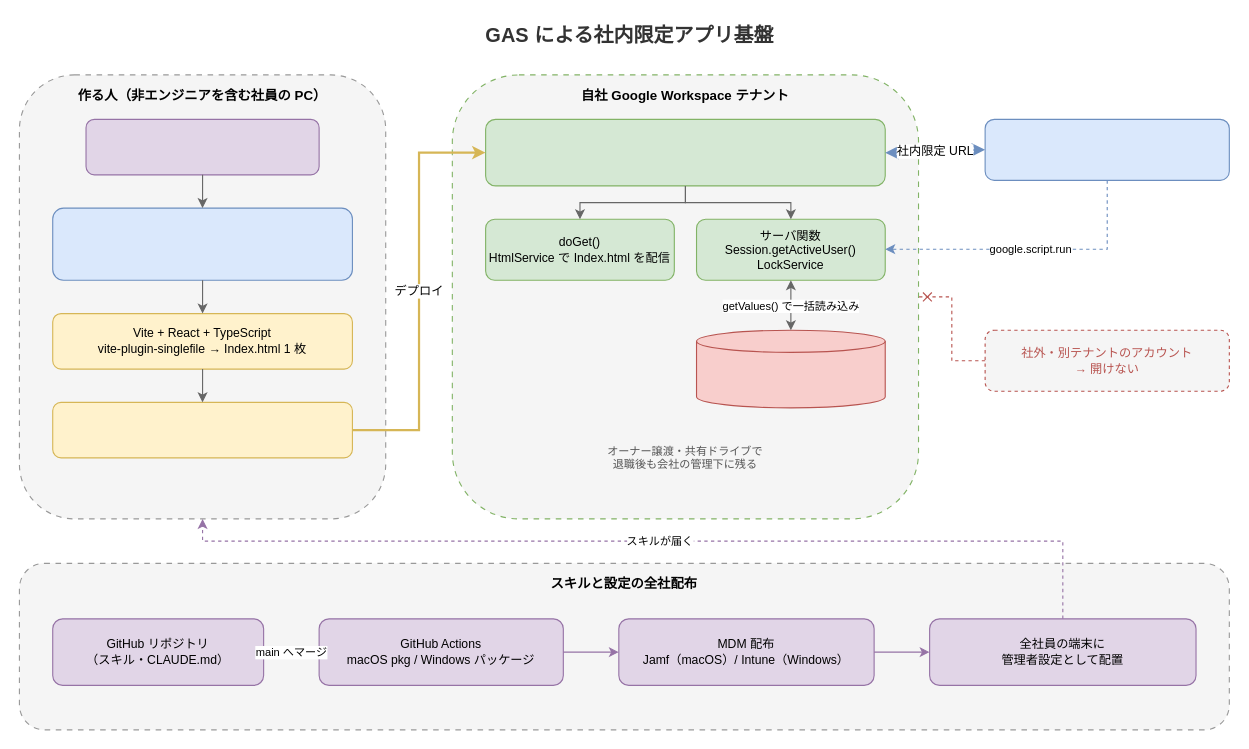
The diagram is 1249 pixels wide and 749 high, and some of its shapes have lost their labels. Each missing label, with the centre of its shape:
"clasp redeploy （デプロイ ID 固定で URL 不変）" belongs at [202,429].
"Claude Code （自然言語で依頼）" belongs at [202,146].
"GAS Web アプリ access: DOMAIN / executeAs: USER_ACCESSING or USER_DEPLOYING" belongs at [685,152].
"スプレッドシート（業務データ）" belongs at [790,368].
"同じドメインの社員 （ブラウザ）" belongs at [1106,149].
"社内スキル集（kube-mas） onboarding → scaffold → deploy 既知の罠リスト・公開範囲の確認" belongs at [202,243].
